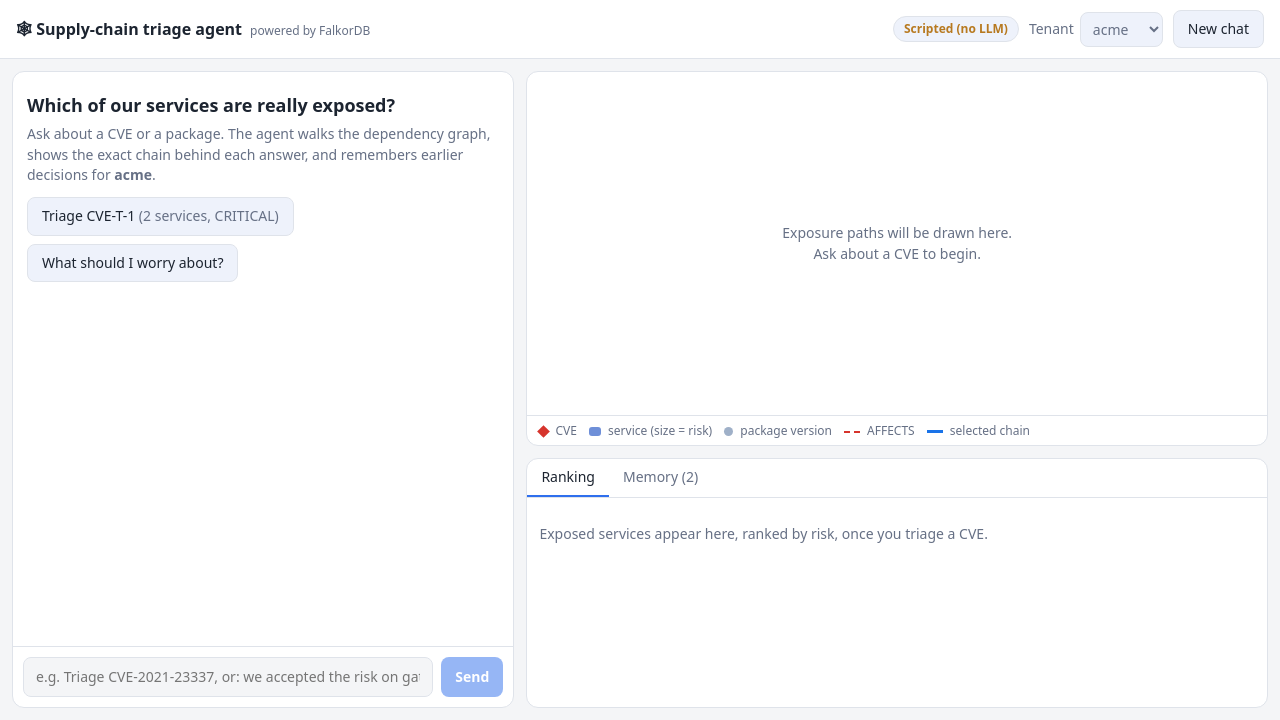
Scenario: triage UI › memory tab shows decisions with supersede history
Click the tab "Memory (2)" at point(661, 478), box [609, 459, 712, 497]
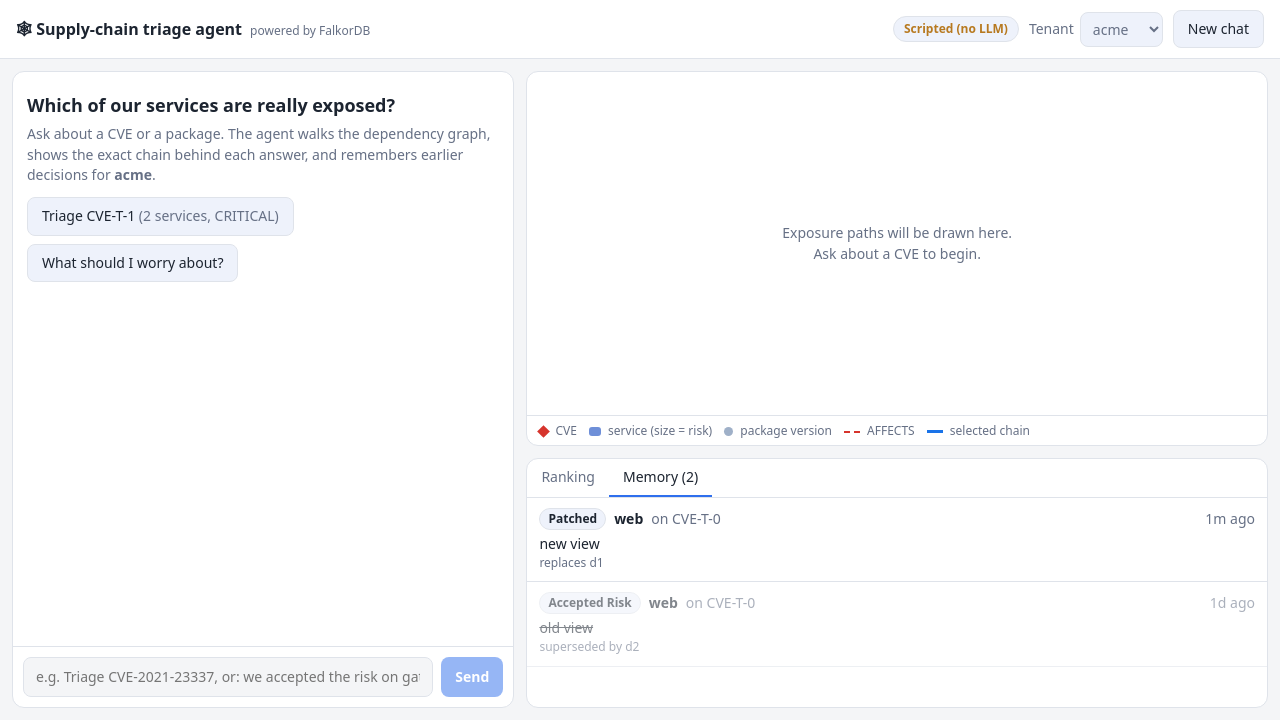
Check: the text "replaces d1" is shown, box [539, 554, 604, 571]
Check: the text "superseded by d2" is shown, box [539, 638, 640, 655]
